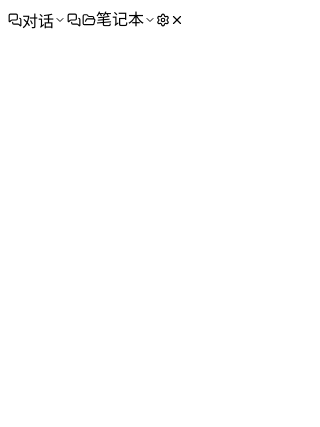
Test: floating bar conversation › shows a service error when a chat send fails because the worker disconnected
The width and height of the screenshot is (320, 427).
Click the button named "打开对话" at (74, 20), box [67, 13, 81, 27]
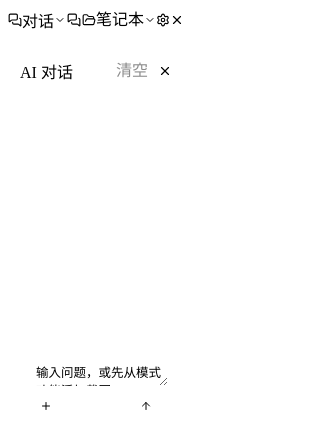
Type "你好" into the text box named "补充问题" at (100, 375), box [32, 364, 168, 386]
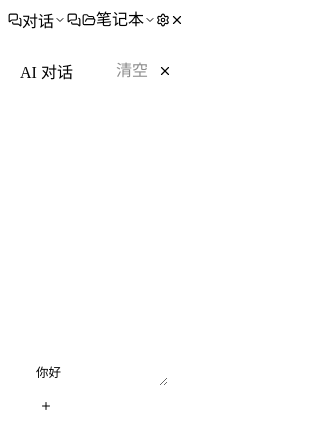
Press Enter in the text box named "补充问题", box [32, 364, 168, 386]
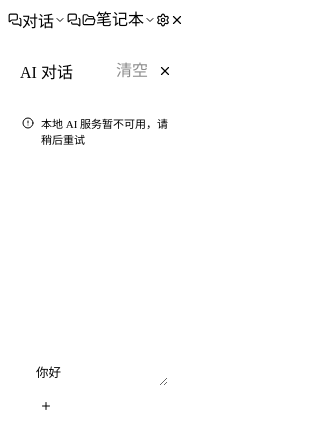
Now the message reads "本地 AI 服务暂不可用，请稍后重试", box [41, 118, 168, 146]
